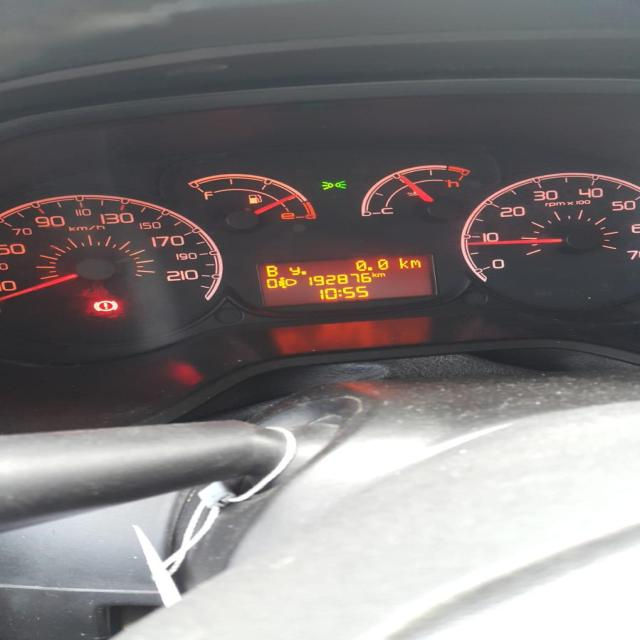odometer: (254, 252, 441, 306)
